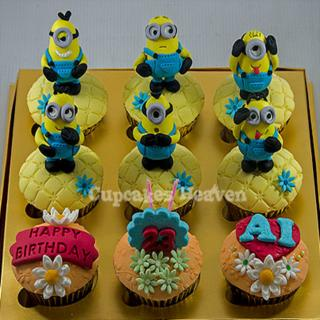Muffin: (9, 14, 310, 311)
